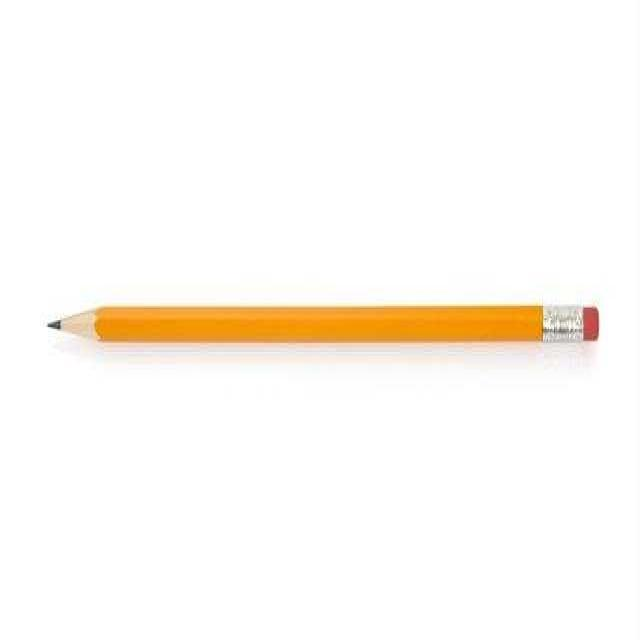pencil: (35, 262, 611, 359)
